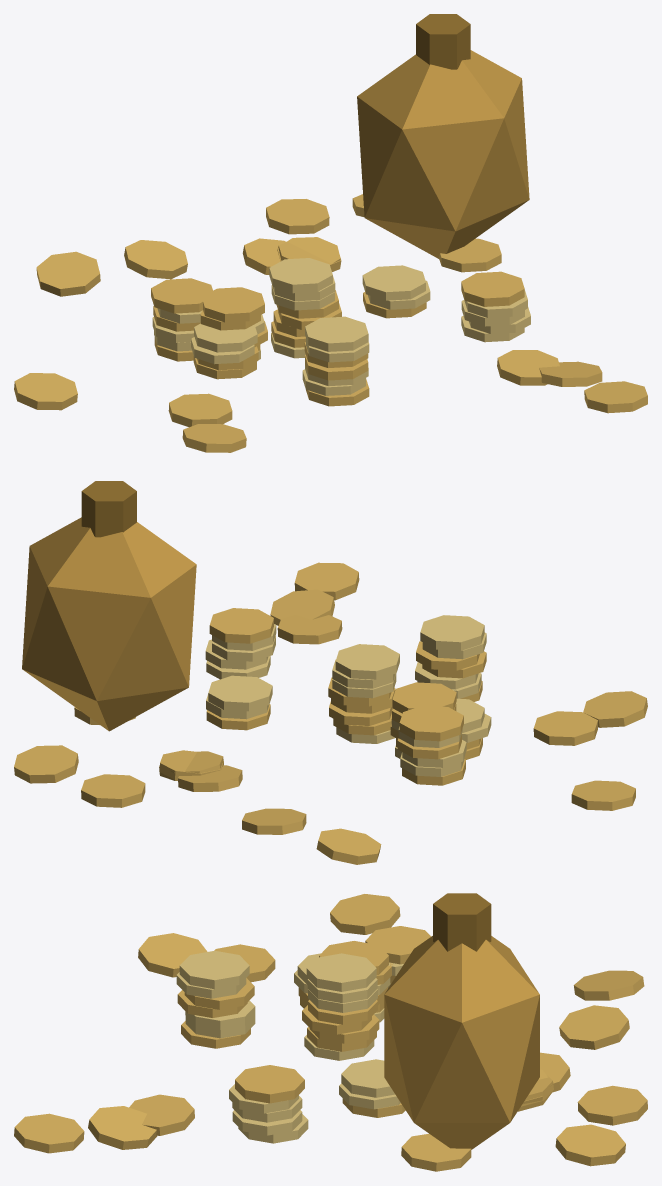
The model's file is coin_pile.glb.
3 views of the same model, one above another, from view 1: azimuth 30°, elevation 25°; view 2: azimuth 150°, elevation 25°; view 3: azimuth 270°, elevation 25° (orthographic). The views are drawn at different scales.
Parts seen in each view (by area): view 1: coin sack, sack neck, spilled Kien.006, spilled Kien.011, spilled Kien.013, spilled Kien.012, Kien coin.006, Kien coin.014, Kien coin.021, Kien coin.038, Kien coin.033, Kien coin.027 (+19 smaller); view 2: coin sack, sack neck, spilled Kien.003, Kien coin.006, Kien coin.014, Kien coin.038, Kien coin.021, spilled Kien.002, Kien coin.027, spilled Kien.012, spilled Kien.007, spilled Kien.006 (+28 smaller); view 3: coin sack, sack neck, spilled Kien.011, spilled Kien.003, spilled Kien.010, spilled Kien.013, spilled Kien.012, spilled Kien.005, Kien coin.021, Kien coin.014, Kien coin.038, spilled Kien.007 (+28 smaller).
Boxes of the visible parts, bbox=[...] form: coin sack: bbox=[357, 50, 529, 258]; sack neck: bbox=[416, 14, 470, 69]; spilled Kien.006: bbox=[36, 251, 100, 296]; spilled Kien.011: bbox=[124, 240, 187, 279]; spilled Kien.013: bbox=[14, 373, 77, 410]; spilled Kien.012: bbox=[266, 199, 329, 234]; Kien coin.006: bbox=[362, 265, 425, 300]; Kien coin.014: bbox=[269, 258, 332, 293]; Kien coin.021: bbox=[305, 316, 368, 351]; Kien coin.038: bbox=[461, 271, 524, 306]; Kien coin.033: bbox=[203, 287, 264, 322]; Kien coin.027: bbox=[151, 278, 214, 313]; coin sack: bbox=[22, 517, 196, 731]; sack neck: bbox=[81, 481, 136, 537]; spilled Kien.003: bbox=[14, 745, 78, 783]; Kien coin.006: bbox=[208, 675, 272, 711]; Kien coin.014: bbox=[335, 644, 399, 679]; Kien coin.038: bbox=[209, 608, 273, 643]; Kien coin.021: bbox=[420, 615, 484, 650]; spilled Kien.002: bbox=[533, 711, 597, 745]; Kien coin.027: bbox=[399, 706, 463, 741]; spilled Kien.012: bbox=[81, 774, 145, 807]; spilled Kien.007: bbox=[583, 691, 647, 727]; spilled Kien.006: bbox=[316, 828, 381, 864]; coin sack: bbox=[384, 936, 539, 1149]; sack neck: bbox=[433, 893, 491, 951]; spilled Kien.011: bbox=[559, 1005, 629, 1049]; spilled Kien.003: bbox=[555, 1124, 625, 1166]; spilled Kien.010: bbox=[88, 1106, 157, 1149]; spilled Kien.013: bbox=[330, 894, 400, 934]; spilled Kien.012: bbox=[577, 1085, 647, 1125]; spilled Kien.005: bbox=[14, 1113, 84, 1153]; Kien coin.021: bbox=[179, 950, 249, 989]; Kien coin.014: bbox=[306, 953, 376, 991]; Kien coin.038: bbox=[235, 1065, 304, 1103]; spilled Kien.007: bbox=[138, 933, 207, 977].
Bounding box in the file's own units: 0.8126 × 0.335 × 0.7617.
